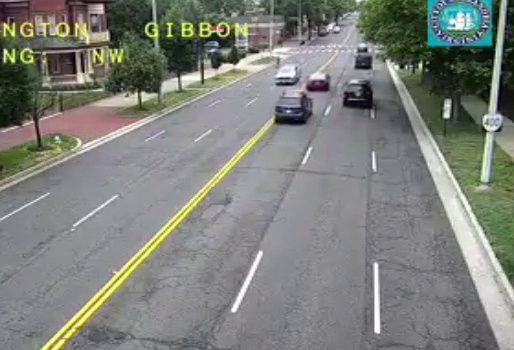car: (275, 91, 311, 121), (342, 81, 373, 105), (307, 73, 328, 91), (355, 54, 373, 70)
